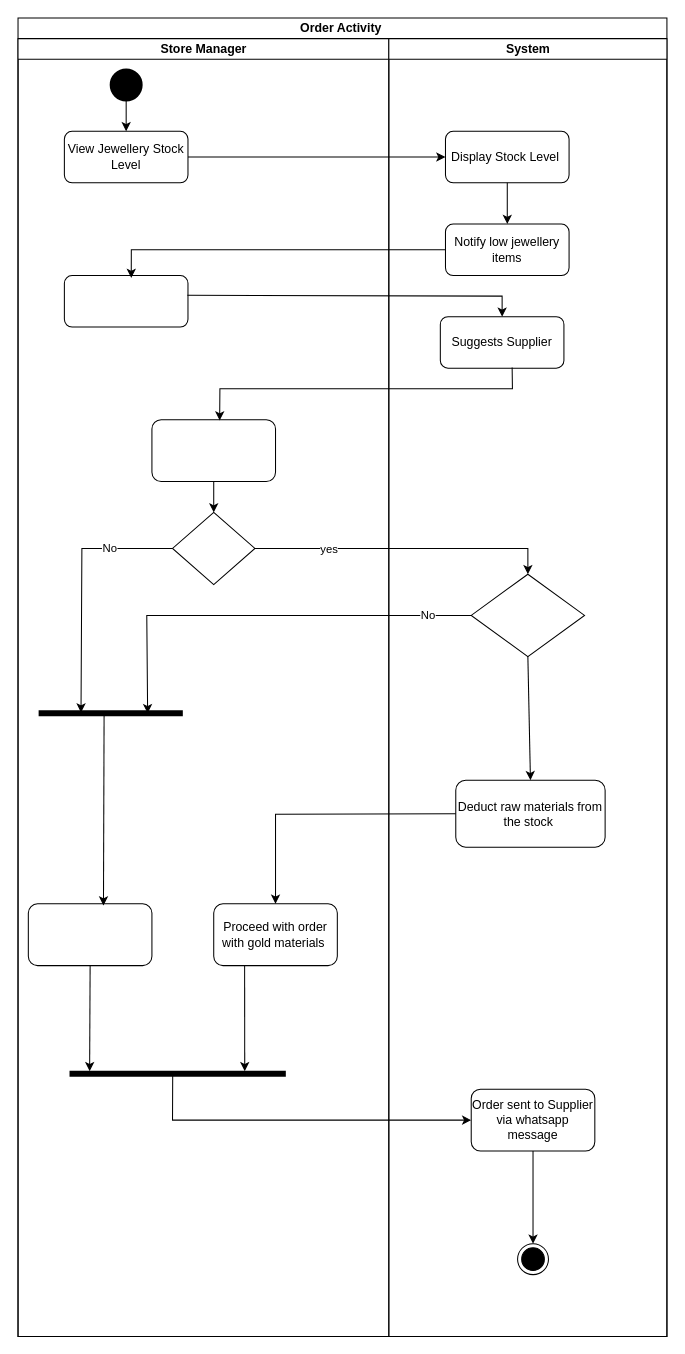
This 685x1354 diagram has some shape labels left out. Each missing label, with the centre of its shape:
"Check if raw materials (gold) are available" goes at point 527,615.
"is gold supply?" goes at point 213,548.
"Proceed with order without gold materials" goes at point 89,934.
"Select order item category" goes at point 125,300.
"Select Supplier" goes at point 213,450.
